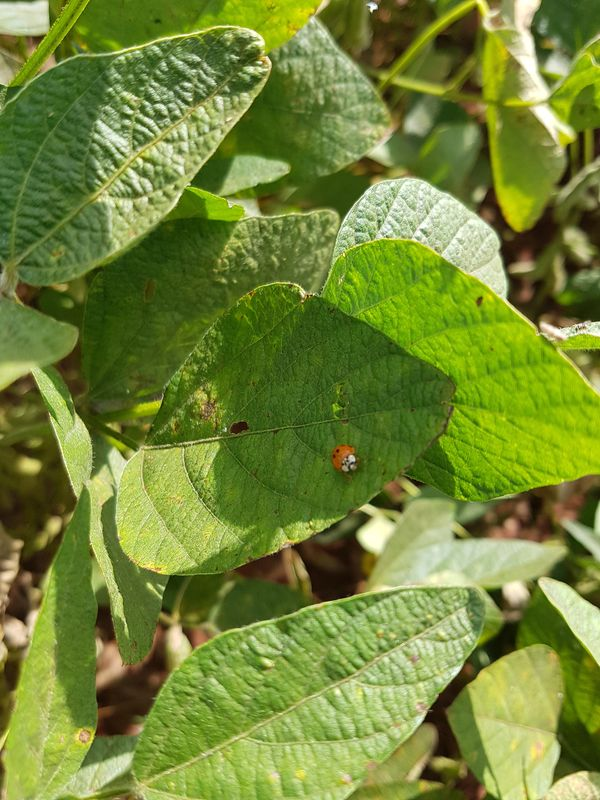Coccinellidae: (324, 438, 365, 480)
